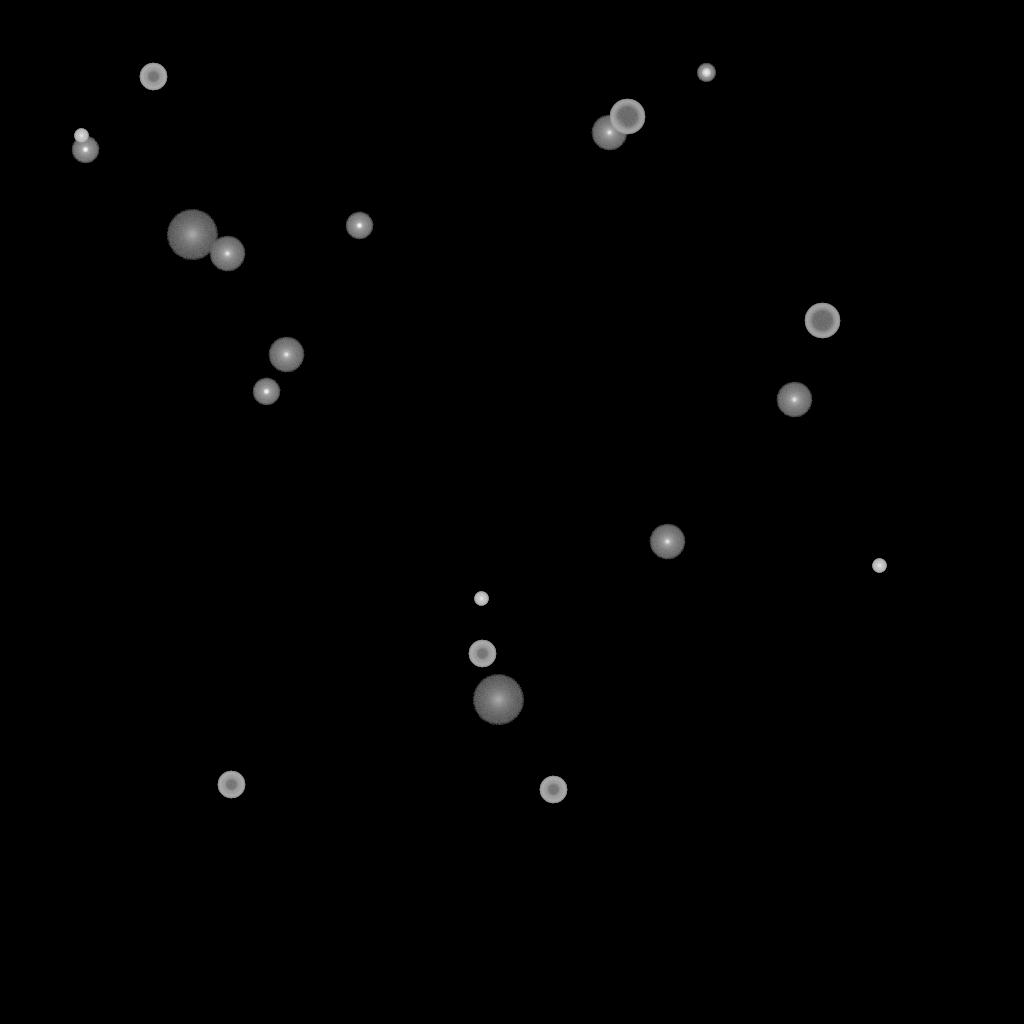depth:-10: (71, 136, 99, 164), (345, 212, 373, 240), (252, 378, 280, 406)
depth:-20: (697, 64, 715, 82)
depth:-30: (474, 592, 488, 606), (74, 129, 88, 143), (872, 559, 886, 573)
depth:-50: (139, 63, 167, 91), (217, 771, 245, 799), (539, 776, 567, 804), (468, 640, 496, 668)
depth:-60: (609, 99, 645, 135), (804, 303, 840, 339)
depth:0: (268, 337, 304, 373), (209, 236, 245, 272), (776, 382, 812, 418), (591, 115, 627, 151), (649, 524, 685, 560)
depth:20: (166, 210, 218, 260), (472, 675, 524, 725)
